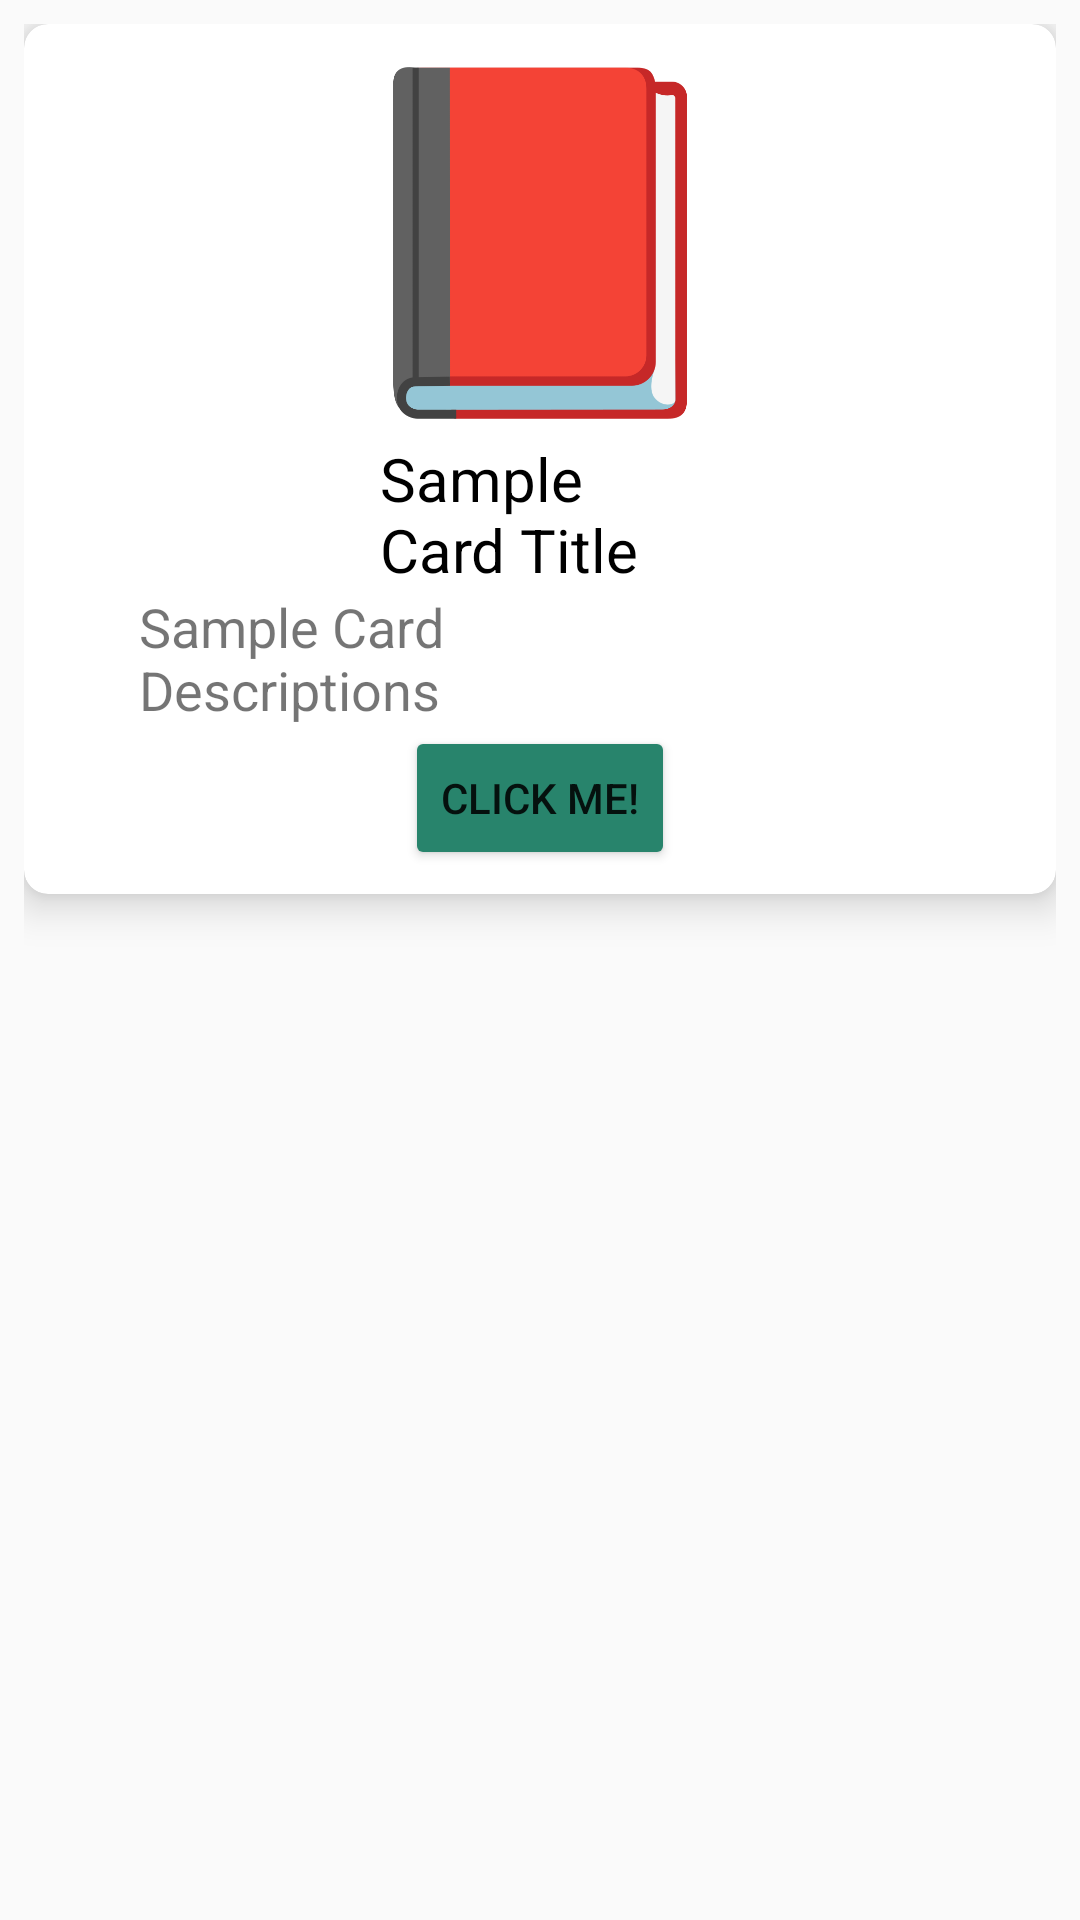

Locate icon controls on the screen. Image size 1080 x 1920, boxes as rect(x1, y1, x2, y2).
book: rect(393, 67, 687, 419)
